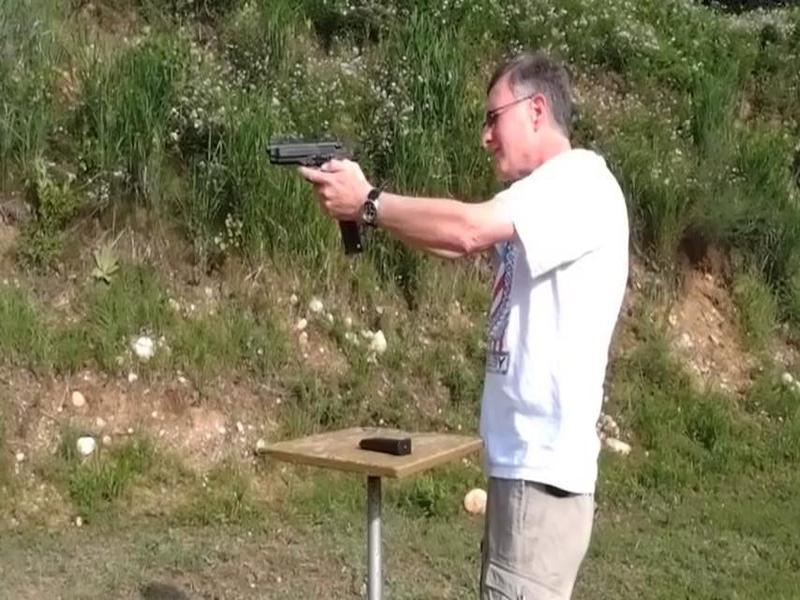Pistola: (261, 123, 371, 220)
